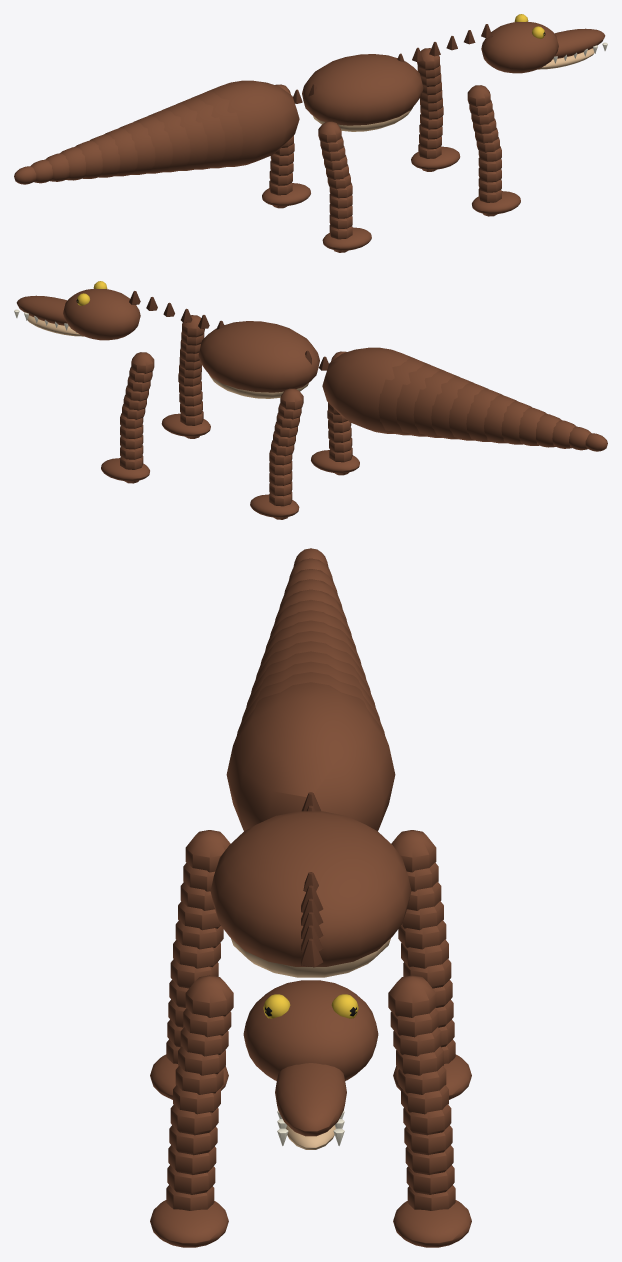
File: postosuchus.glb
The picture shows the model from 3 angles, top to bottom: view 1: azimuth 30°, elevation 25°; view 2: azimuth 150°, elevation 25°; view 3: azimuth 270°, elevation 25°; orthographic projection. The views are drawn at different scales.
Visible parts, largest first — view 1: postosuchus; view 2: postosuchus; view 3: postosuchus.
Boxes of the visible parts, x1,y1,x2,y2 form: postosuchus: (14, 14, 607, 252); postosuchus: (14, 281, 607, 519); postosuchus: (150, 548, 471, 1247).
Size of the model in its own units: 4.84 by 1.28 by 1.14.
